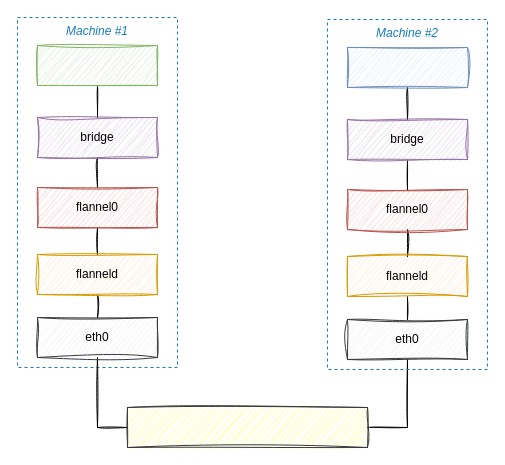
Some shapes in this 505 by 465 pixel diagram are drawn without their labels. Each missing label, with the centre of its shape:
"Container A" belongs at point 97,65.
"Container B" belongs at point 407,67.
"ethernet hub" belongs at point 247,427.
